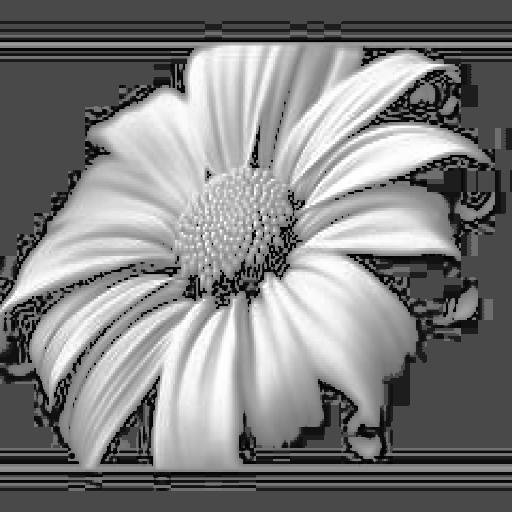daisy: (38, 37, 454, 480)
